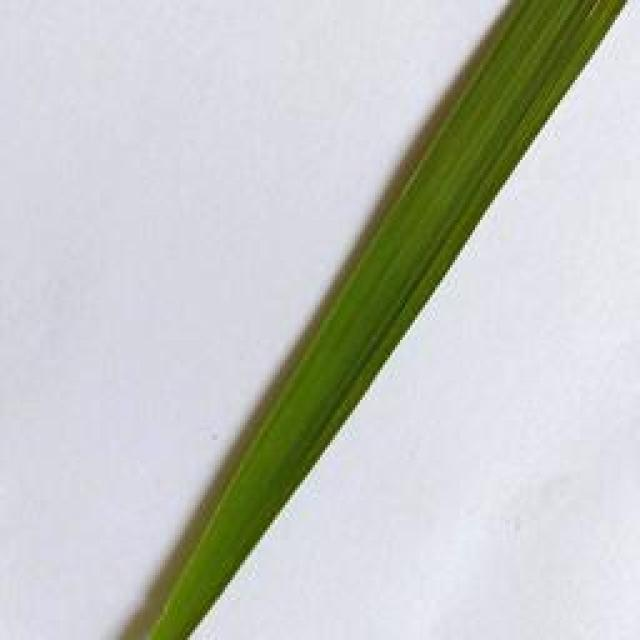Healthy-Plant: (152, 0, 630, 640)
